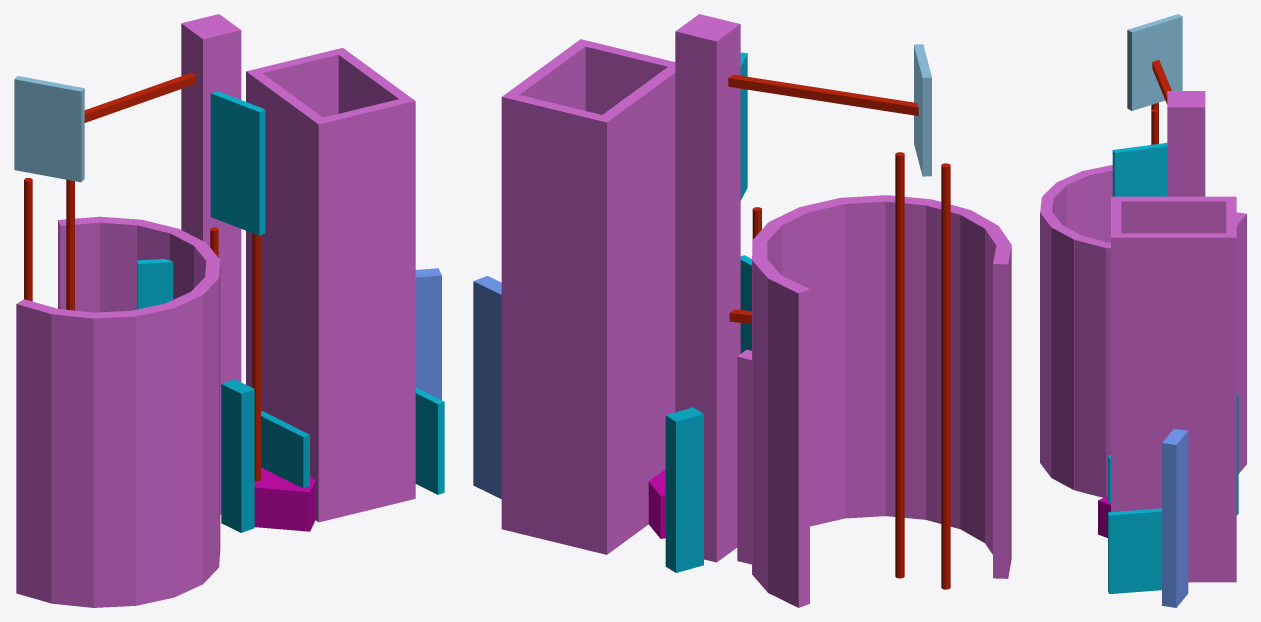
File: folie_tag_042.glb
3 renders of one model, left to right at view 1: azimuth 30°, elevation 25°; view 2: azimuth 150°, elevation 25°; view 3: azimuth 270°, elevation 25°, orthographic. The views are drawn at different scales.
Parts seen in each view (by area): view 1: folie_tag_042_01_curve, folie_tag_042_00_tower, folie_tag_042_core, folie_tag_042_03_panel, folie_tag_042_06_panel, folie_tag_042_line, folie_tag_042_10_fin, folie_tag_042_02_fin, folie_tag_042_09_block, folie_tag_042_11_panel, folie_tag_042_12_panel, folie_tag_042_08_panel; view 2: folie_tag_042_01_curve, folie_tag_042_00_tower, folie_tag_042_core, folie_tag_042_line, folie_tag_042_02_fin, folie_tag_042_07_fin, folie_tag_042_04_fin, folie_tag_042_06_panel, folie_tag_042_09_block, folie_tag_042_03_panel, folie_tag_042_08_panel; view 3: folie_tag_042_00_tower, folie_tag_042_01_curve, folie_tag_042_02_fin, folie_tag_042_11_panel, folie_tag_042_06_panel, folie_tag_042_core, folie_tag_042_03_panel, folie_tag_042_line, folie_tag_042_09_block, folie_tag_042_07_fin.
Part boxes in pixels (left/top/right/bottom): folie_tag_042_01_curve: left=16, top=216, right=220, bottom=607; folie_tag_042_00_tower: left=246, top=48, right=415, bottom=522; folie_tag_042_core: left=181, top=14, right=241, bottom=514; folie_tag_042_03_panel: left=210, top=91, right=265, bottom=235; folie_tag_042_06_panel: left=14, top=76, right=84, bottom=182; folie_tag_042_line: left=24, top=72, right=260, bottom=481; folie_tag_042_10_fin: left=221, top=379, right=254, bottom=532; folie_tag_042_02_fin: left=415, top=268, right=441, bottom=400; folie_tag_042_09_block: left=254, top=467, right=315, bottom=531; folie_tag_042_11_panel: left=415, top=387, right=444, bottom=494; folie_tag_042_12_panel: left=261, top=411, right=309, bottom=488; folie_tag_042_08_panel: left=137, top=259, right=173, bottom=309; folie_tag_042_01_curve: left=752, top=195, right=1011, bottom=607; folie_tag_042_00_tower: left=501, top=39, right=675, bottom=554; folie_tag_042_core: left=675, top=14, right=740, bottom=562; folie_tag_042_line: left=728, top=74, right=950, bottom=589; folie_tag_042_02_fin: left=473, top=276, right=501, bottom=498; folie_tag_042_07_fin: left=665, top=407, right=703, bottom=572; folie_tag_042_04_fin: left=737, top=349, right=751, bottom=564; folie_tag_042_06_panel: left=914, top=44, right=931, bottom=176; folie_tag_042_09_block: left=648, top=469, right=665, bottom=538; folie_tag_042_03_panel: left=740, top=52, right=747, bottom=200; folie_tag_042_08_panel: left=740, top=255, right=751, bottom=353; folie_tag_042_00_tower: left=1111, top=196, right=1236, bottom=582; folie_tag_042_01_curve: left=1040, top=165, right=1246, bottom=497; folie_tag_042_02_fin: left=1162, top=428, right=1188, bottom=607; folie_tag_042_11_panel: left=1108, top=508, right=1161, bottom=593; folie_tag_042_06_panel: left=1127, top=14, right=1182, bottom=110; folie_tag_042_core: left=1167, top=91, right=1205, bottom=196; folie_tag_042_03_panel: left=1112, top=143, right=1167, bottom=196; folie_tag_042_line: left=1151, top=60, right=1171, bottom=196; folie_tag_042_09_block: left=1098, top=496, right=1110, bottom=537; folie_tag_042_07_fin: left=1236, top=393, right=1238, bottom=515.
Bounding box in the file's own units: 13.23 × 13.26 × 5.98.
